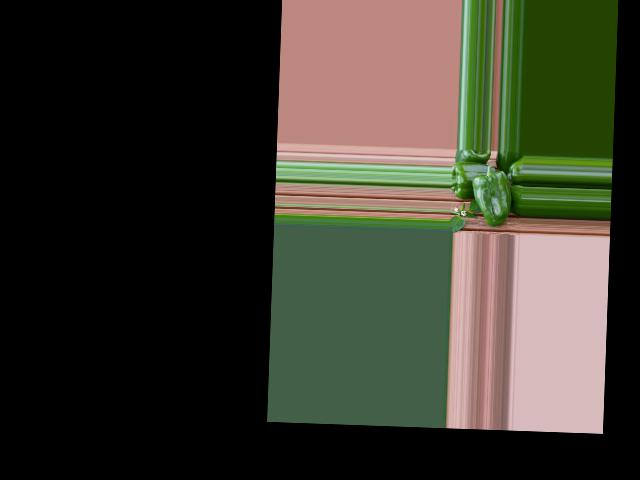bell_pepper: (505, 154, 524, 180)
